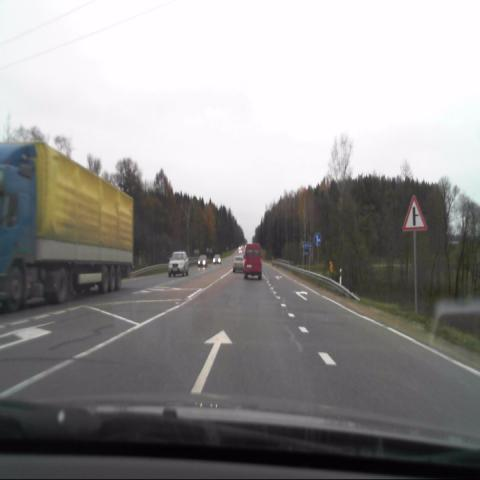2_3_2: (401, 193, 428, 233)
4_1_4: (314, 232, 322, 247)
